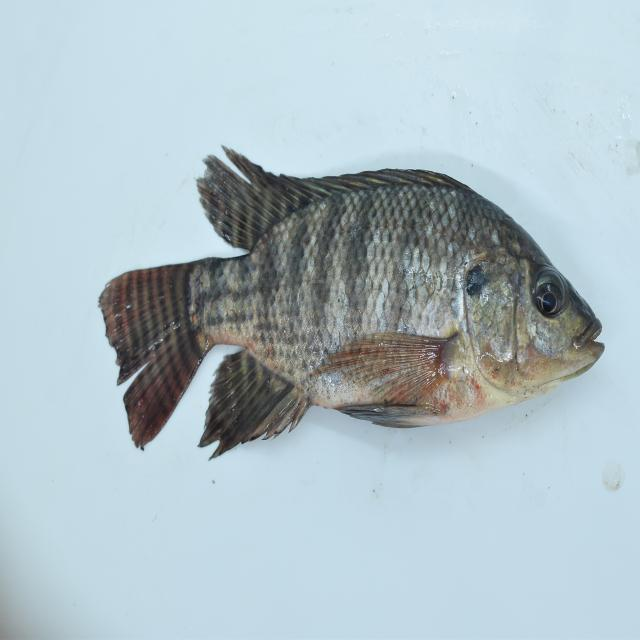Columnaris Disease: (55, 132, 619, 472)
